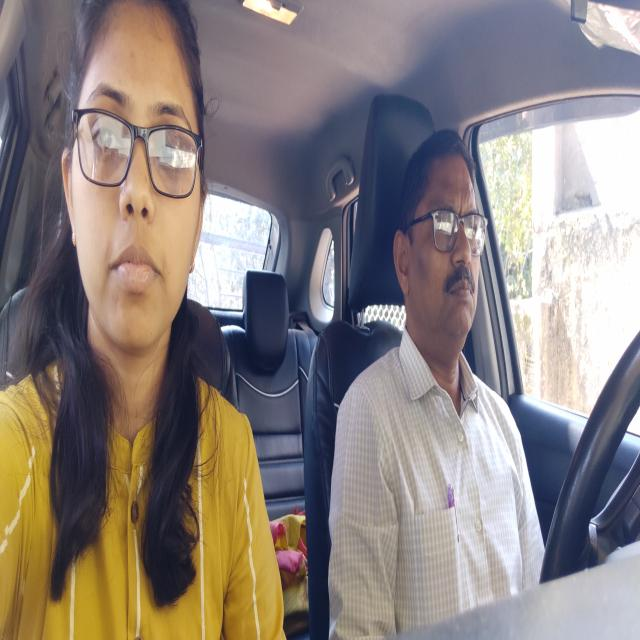person: (62, 4, 207, 352), (399, 149, 488, 345)
